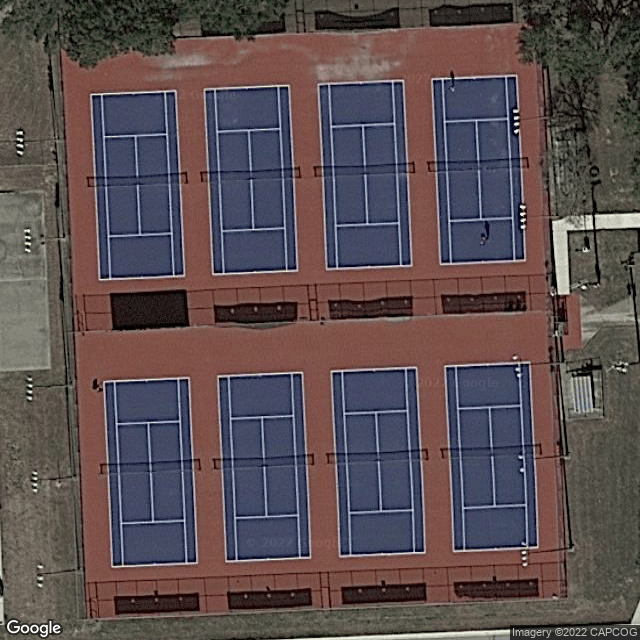Court: (214, 370, 315, 563), (315, 78, 414, 272), (329, 365, 427, 559), (202, 82, 299, 276), (430, 73, 527, 266), (101, 376, 198, 569), (442, 360, 539, 553), (89, 88, 185, 281)
